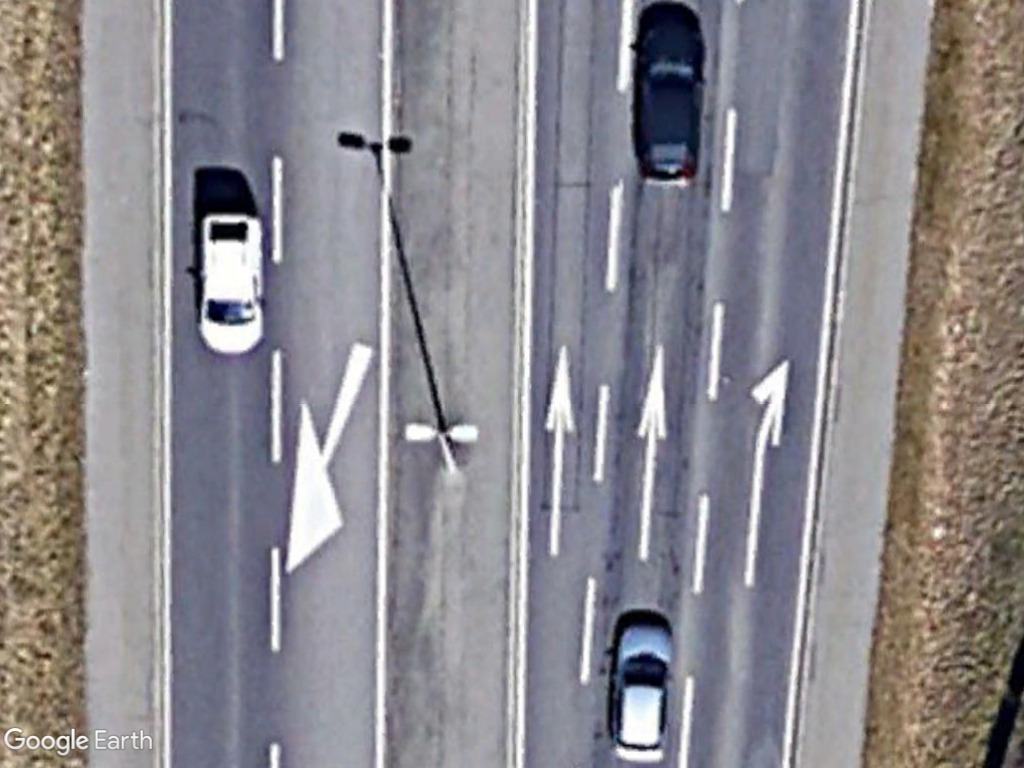car: (630, 22, 708, 186), (195, 207, 266, 356), (608, 619, 674, 764)
